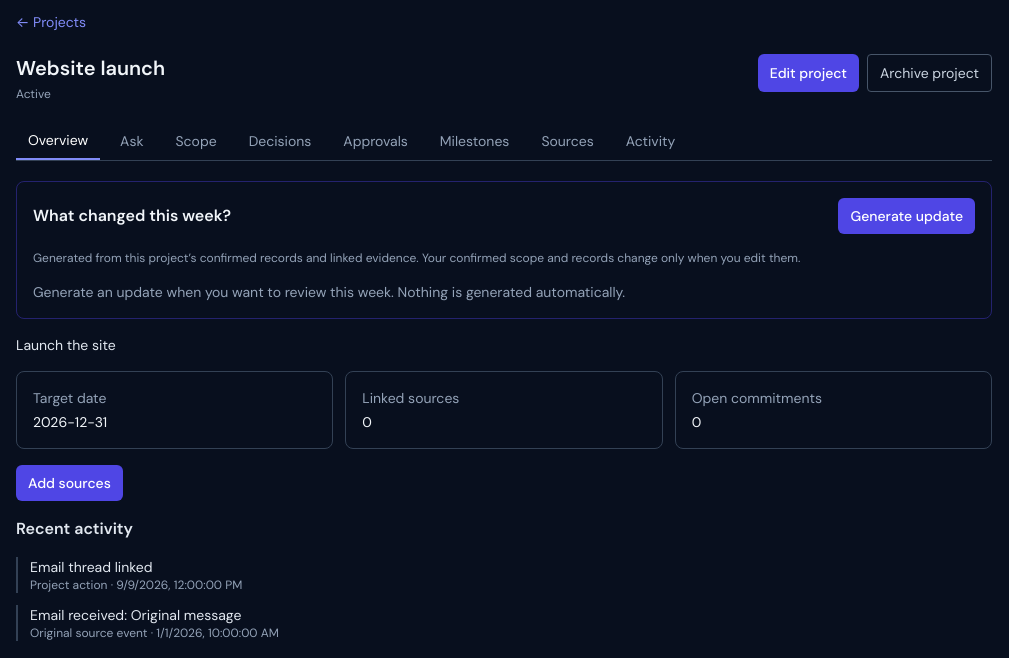
Test: opens project questions from the Ask tab without generating an answer
The image size is (1009, 658).
Click the tab "Ask": (132, 141) [108, 122, 156, 160]
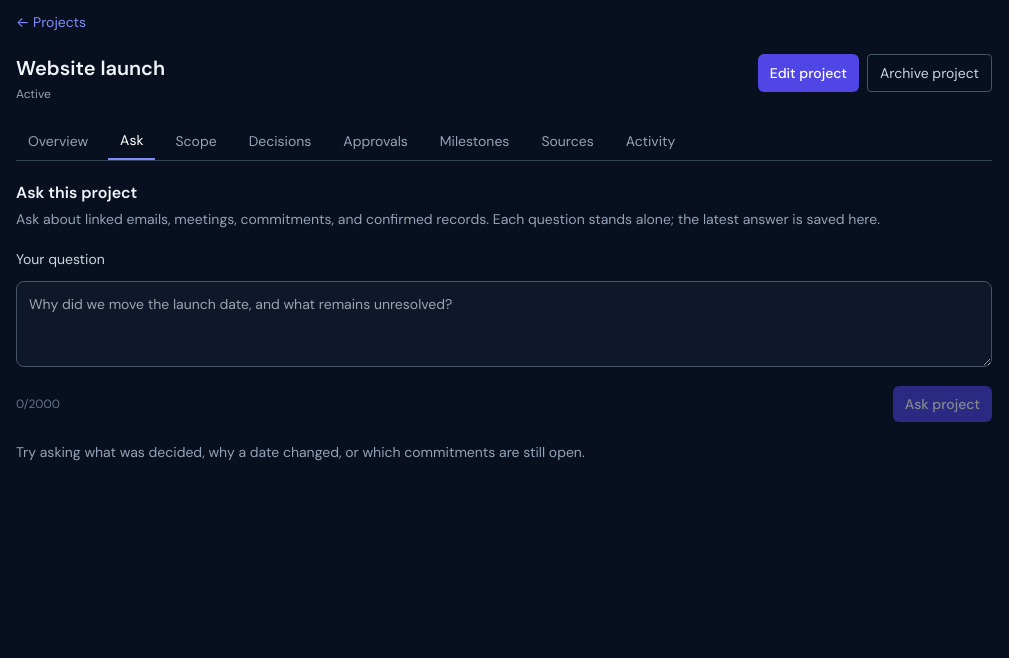
Now the heading "Ask this project" is shown, box [16, 182, 137, 203]
Now the text box labelled "Your question" is shown, box [16, 281, 992, 367]
